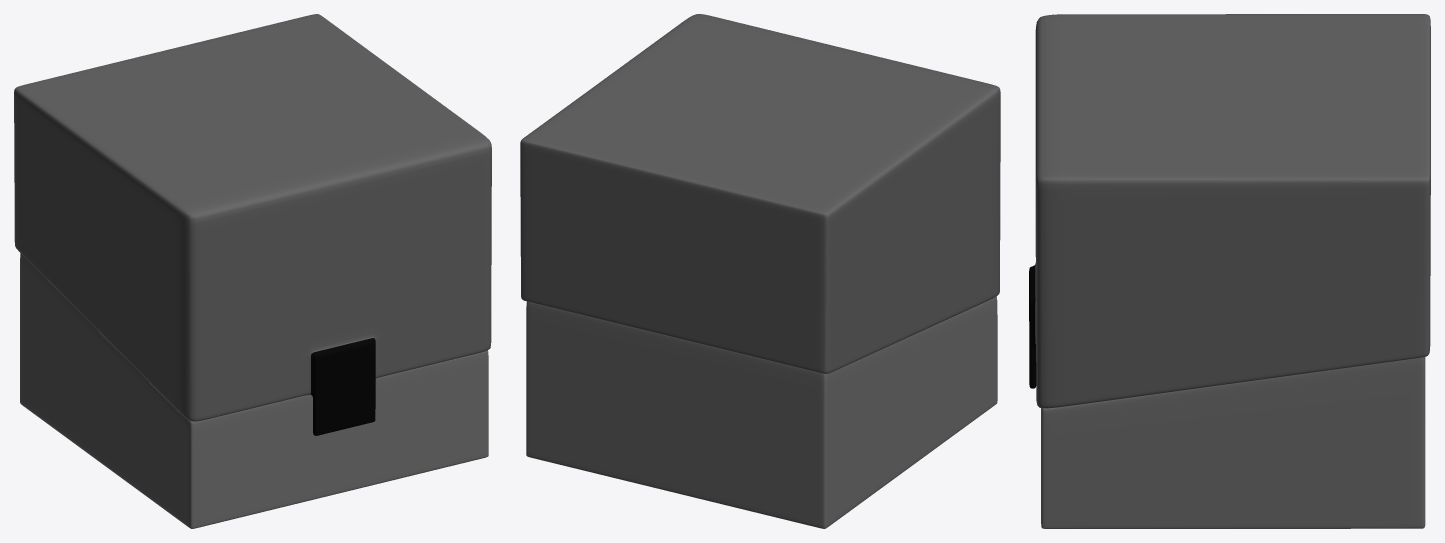
Rendered from Ammo_Box_Closed.fbx.
3 views of the same model, side by side, from view 1: azimuth 30°, elevation 25°; view 2: azimuth 150°, elevation 25°; view 3: azimuth 270°, elevation 25° (orthographic). The views are drawn at different scales.
Parts seen in each view (by area): view 1: Ammo_Box_Closed; view 2: Ammo_Box_Closed; view 3: Ammo_Box_Closed.
Part boxes in pixels (x1,y1,x2,y2): Ammo_Box_Closed: (14,14,491,528); Ammo_Box_Closed: (520,14,1000,528); Ammo_Box_Closed: (1029,14,1430,528).
Size of the model in its own units: 0.2284 by 0.2252 by 0.2321.
1 material, 1 textured.
